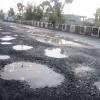Pothole: (10, 20, 100, 50), (2, 62, 62, 94), (73, 60, 100, 96), (43, 46, 71, 61), (11, 45, 41, 54), (0, 33, 18, 46), (0, 52, 13, 67)
